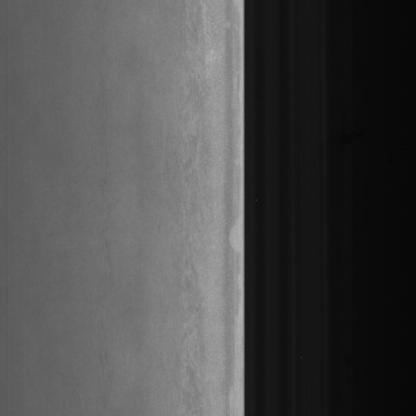silk_spot: (158, 51, 208, 416)
